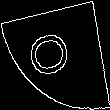O_E: (29, 28, 81, 82)
